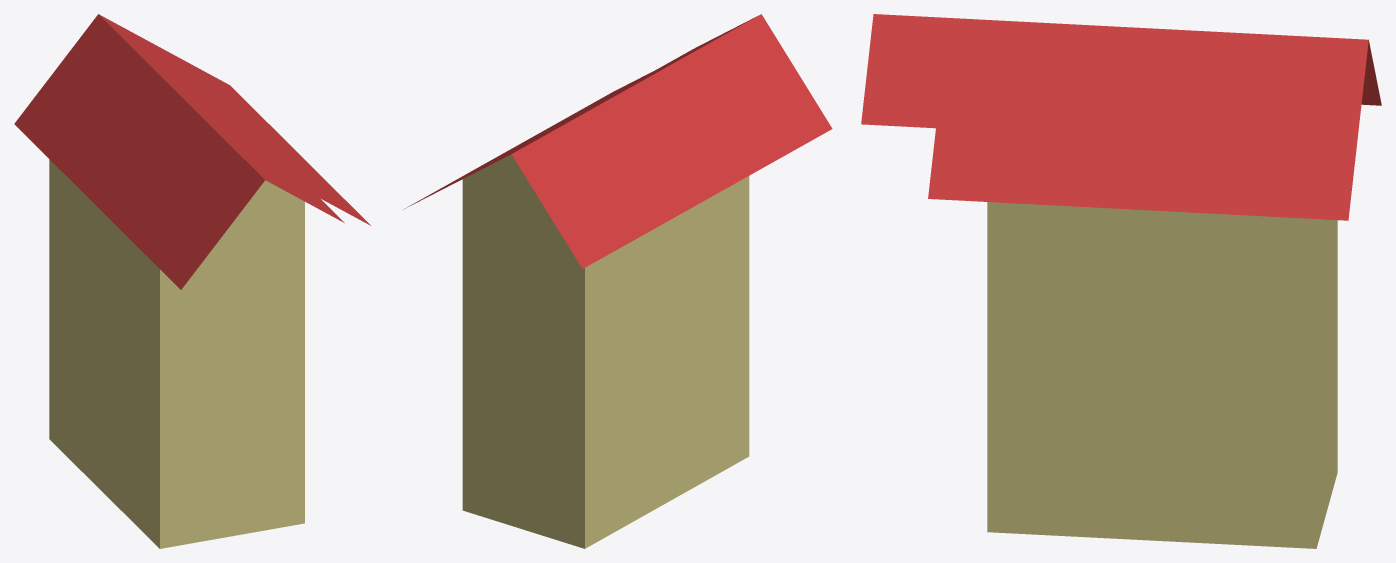
3 renders of one model, left to right at view 1: azimuth 30°, elevation 25°; view 2: azimuth 150°, elevation 25°; view 3: azimuth 270°, elevation 25°, orthographic. The views are drawn at different scales.
Size of the model in its own units: 7.22 by 11.3 by 11.2.
